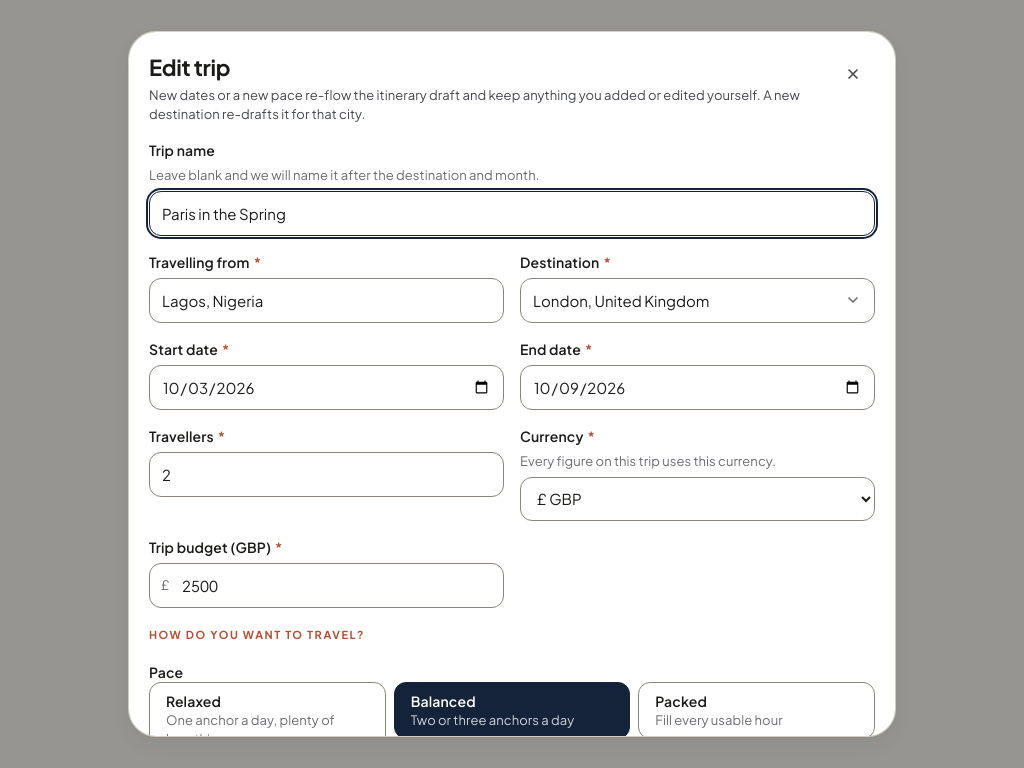
EditTripDialog destination › refuses to save a cleared destination
Clear the dropdown labelled "Destination*": (698, 300) x1=520 y1=278 x2=875 y2=323
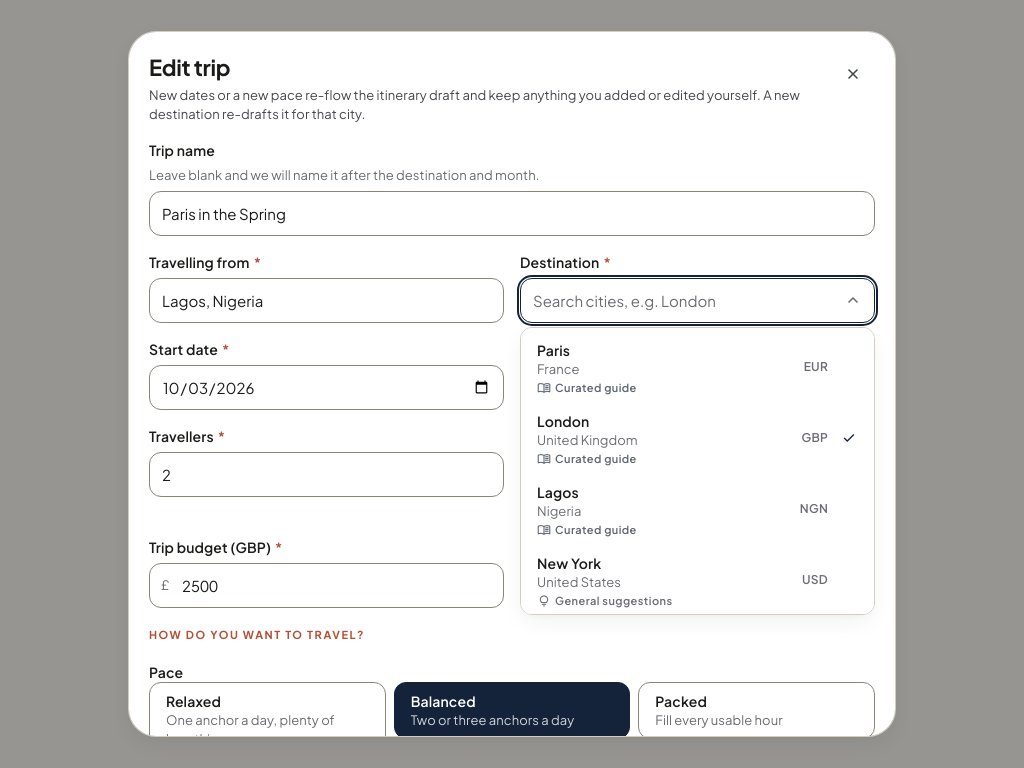
Press Tab
(page scrolled)
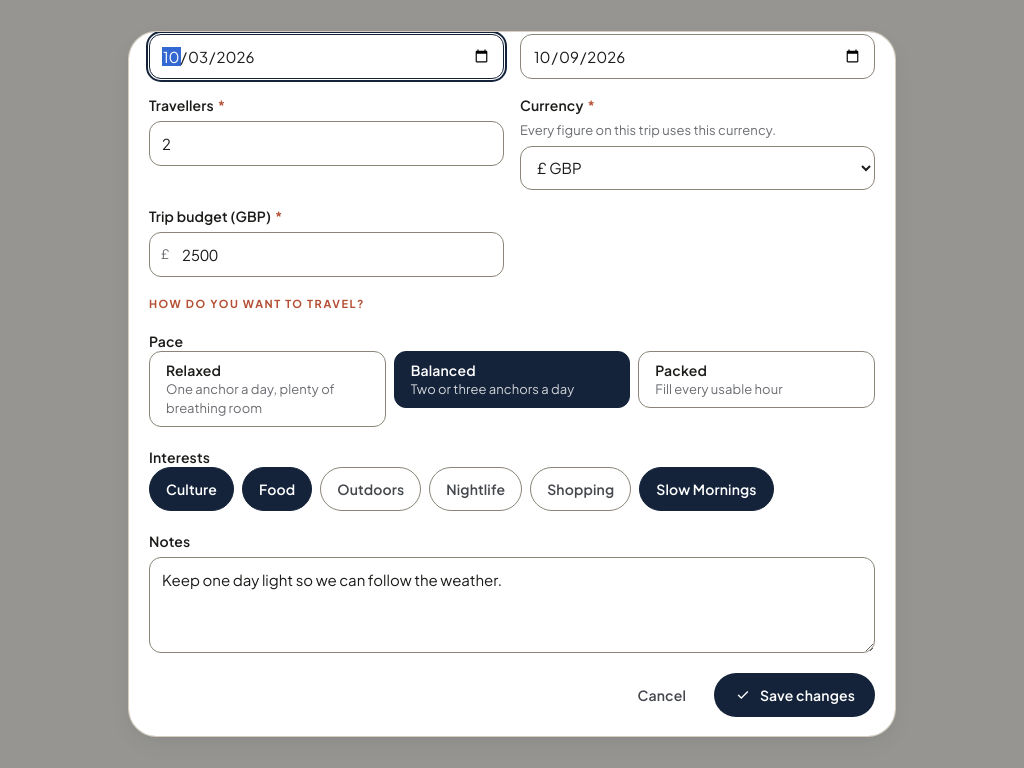
Click the button "Save changes": (794, 695) x1=714 y1=673 x2=875 y2=717
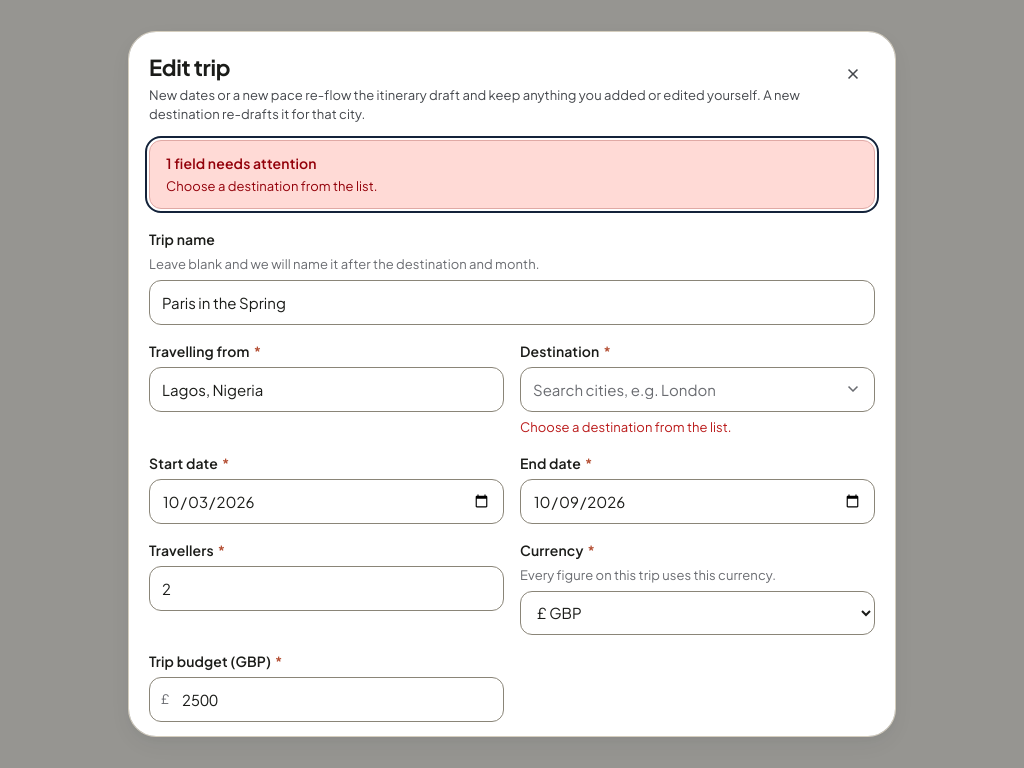
expect the list item "Choose a destination from the list." is shown: met, box x1=166 y1=178 x2=378 y2=194
